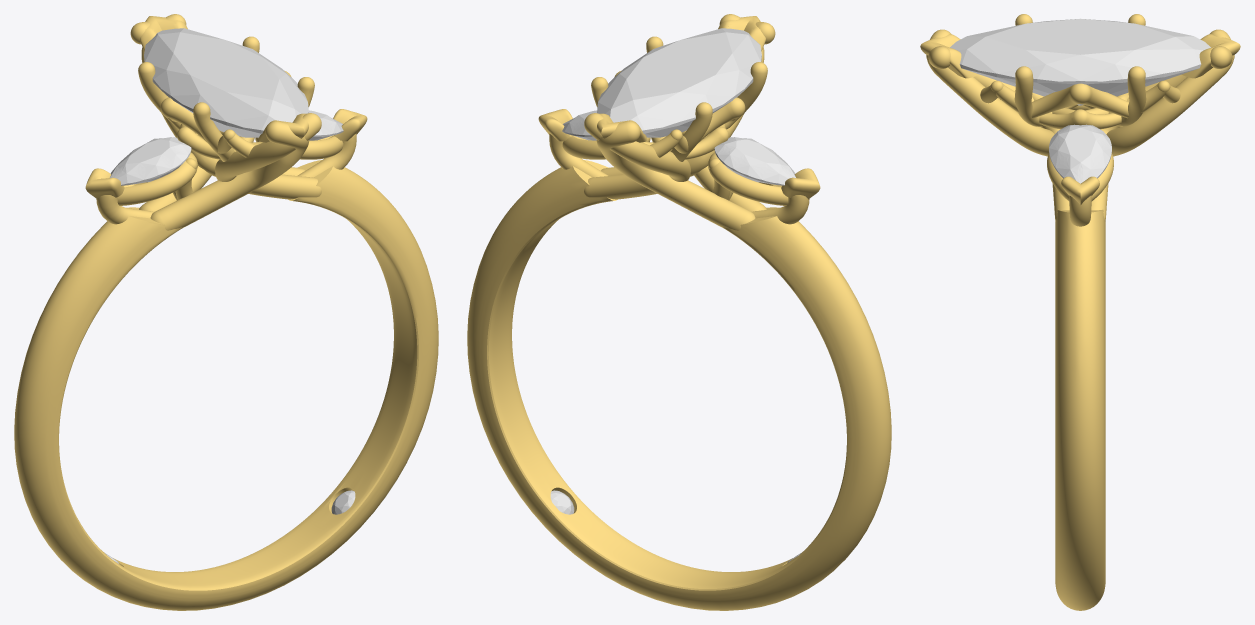
File: ChristianV4yg_blender.glb
3 views of the same model, side by side, from view 1: azimuth 30°, elevation 25°; view 2: azimuth 150°, elevation 25°; view 3: azimuth 270°, elevation 25° (orthographic). The views are drawn at different scales.
Visible parts, largest first — view 1: v4 Christian YG for 3d model, Christian dia for 3d model.002, Christian dia for 3d model; view 2: v4 Christian YG for 3d model, Christian dia for 3d model.002, Christian dia for 3d model; view 3: v4 Christian YG for 3d model, Christian dia for 3d model.002, Christian dia for 3d model.001.
Boxes of the visible parts, x1,y1,x2,y2 form: v4 Christian YG for 3d model: [14, 14, 438, 610]; Christian dia for 3d model.002: [144, 28, 308, 137]; Christian dia for 3d model: [110, 137, 191, 185]; v4 Christian YG for 3d model: [467, 14, 891, 610]; Christian dia for 3d model.002: [597, 28, 761, 137]; Christian dia for 3d model: [714, 137, 795, 185]; v4 Christian YG for 3d model: [920, 14, 1240, 610]; Christian dia for 3d model.002: [950, 18, 1210, 105]; Christian dia for 3d model.001: [1049, 124, 1111, 183].
Size of the model in its own units: 19.7 by 24.13 by 12.72.
